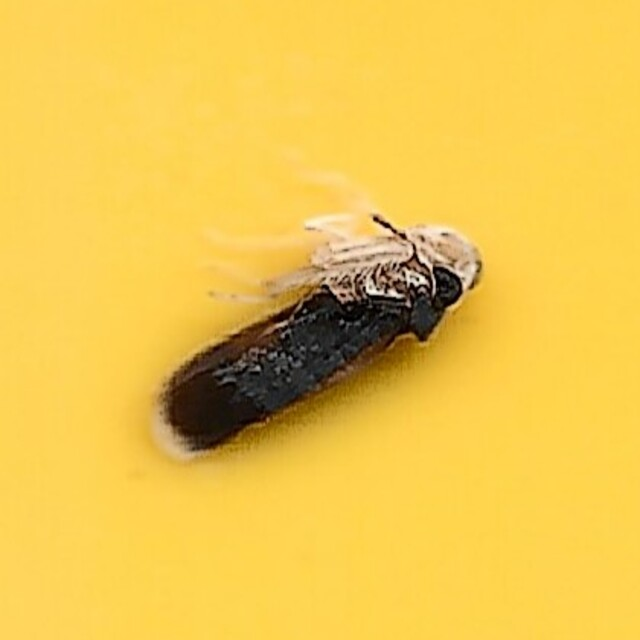Hemiptera: (152, 177, 488, 463)
